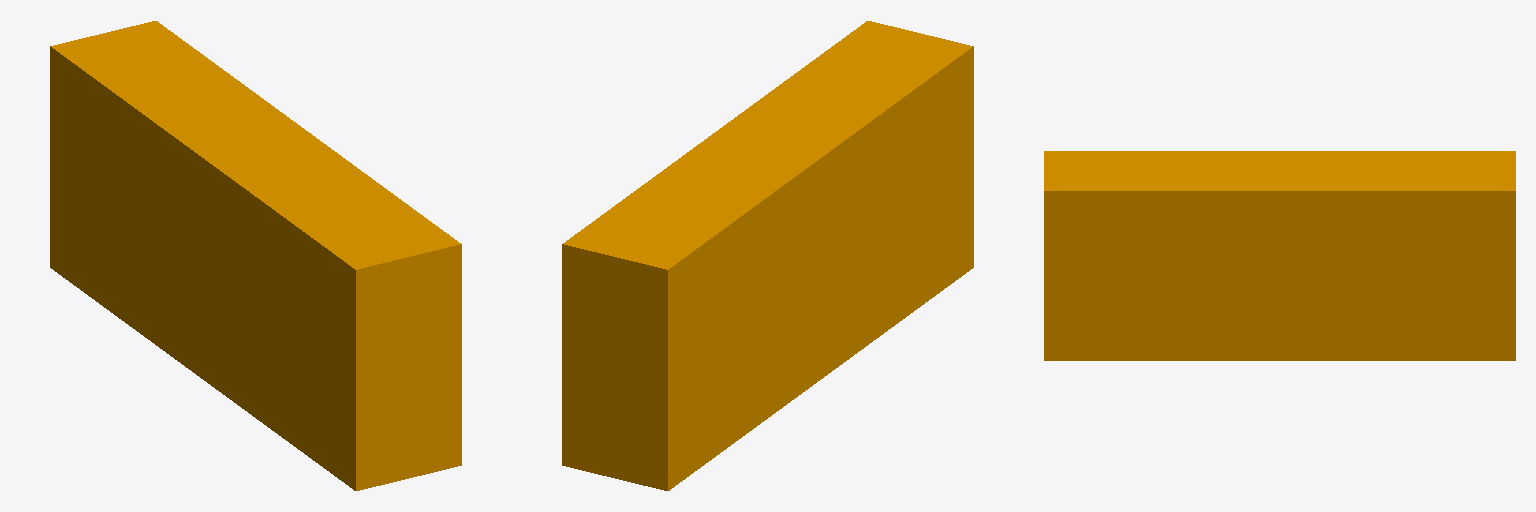
robot.urdf — C170:
<?xml version="1.0"?>
<robot name="C170">
	<link name="camera_link">
    <visual name="visual">
      <geometry>
        <box size="0.01 0.05 0.02"/>
      </geometry>
		<material name="black" />
    </visual>
    <collision name="collision">
      <geometry>
        <box size="0.01 0.05 0.02"/>
      </geometry>
    </collision>
    <inertial>
      <origin xyz="0 0 0" rpy="0 0 0"/>
      <mass value="1"/>
      <inertia
        ixx="1.0" ixy="0.0" ixz="0.0"
        iyy="1.0" iyz="0.0"
        izz="1.0"/>
    </inertial>

	</link>
	<gazebo>
		<static>true</static>
	</gazebo>
	<gazebo reference="camera_link">
		<material>Gazebo/Black</material>
    <sensor type="camera" name="camera">
      <!--      <pose>0.089 -0.01 0.236 0 0.436 0</pose> -->
      <update_rate>6.0</update_rate>
      <camera name="head">
        <horizontal_fov>1.0123</horizontal_fov>
        <image>
          <width>640</width>
          <height>480</height>
          <format>B8G8R8</format>
        </image>
        <clip>
          <near>0.02</near>
          <far>300</far>
        </clip>
        <noise>
          <type>gaussian</type>
          <mean>0.0</mean>
          <stddev>0.007</stddev>
        </noise>
        </camera>
      <plugin name="camera_controller" filename="libgazebo_ros_camera.so">
        <alwaysOn>true</alwaysOn>
        <updateRate>0.0</updateRate>
        <cameraName>camera</cameraName>
        <imageTopicName>image</imageTopicName>
        <cameraInfoTopicName>camera_info</cameraInfoTopicName>
        <frameName>camera_link</frameName>
        <hackBaseline>0.1</hackBaseline>
        <distortionK1>.0</distortionK1>
        <distortionK2>0.0</distortionK2>
        <distortionK3>0.0</distortionK3>
        <distortionT1>0.0</distortionT1>
        <distortionT2>0.0</distortionT2>
      </plugin>
    </sensor>
	</gazebo>
</robot>

--- Render facts (derived) ---
The picture shows the robot from 3 angles, left to right: view 1: azimuth 30°, elevation 25°; view 2: azimuth 150°, elevation 25°; view 3: azimuth 270°, elevation 25°; orthographic projection.
Robot: C170 — 1 links, 0 joints (none); root link camera_link; default pose: every joint at zero.
Links seen in each view (by area): view 1: camera_link; view 2: camera_link; view 3: camera_link.
Boxes of the visible links, x1,y1,x2,y2 form: camera_link: (50, 21, 461, 490); camera_link: (562, 21, 973, 490); camera_link: (1044, 151, 1515, 360).
Bounding box of the posed robot: 0.01 × 0.05 × 0.02 m (x, y, z).
Geometry: primitives only (box / cylinder / sphere), no mesh files.